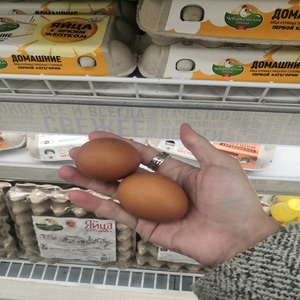brown egg: (117, 172, 190, 223), (74, 137, 142, 181)
